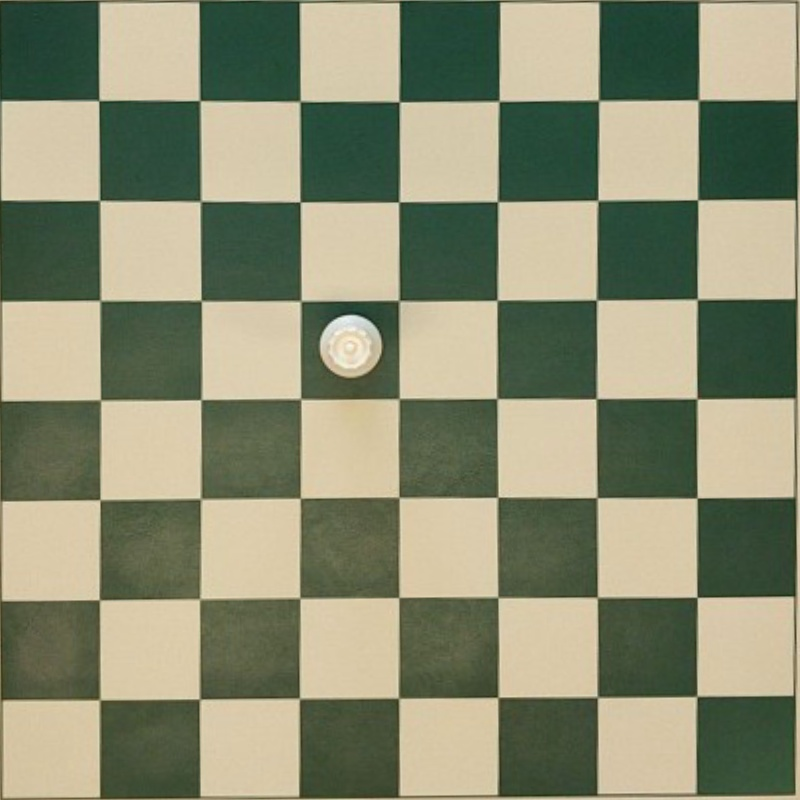white-queen: (319, 314, 383, 379)
